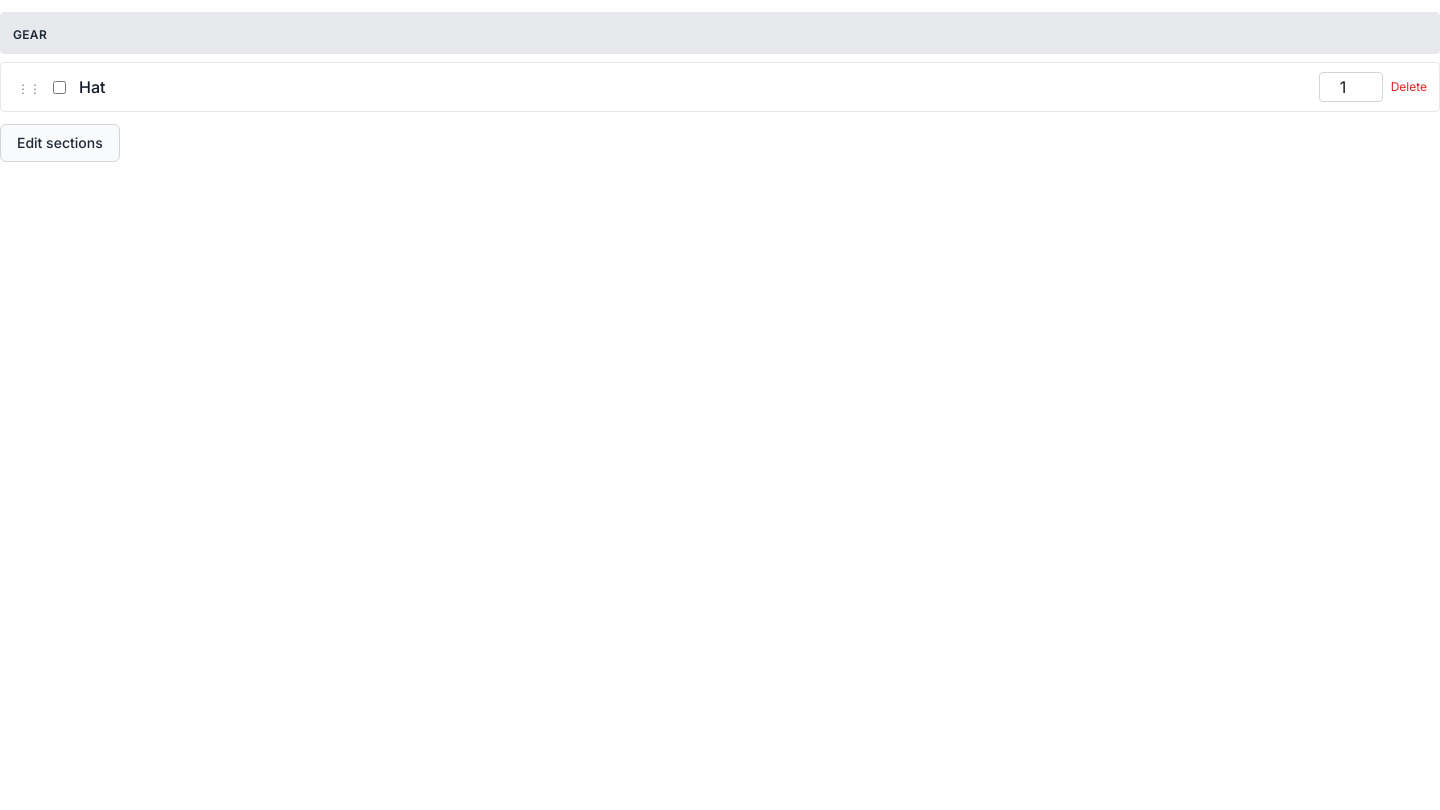
PersonalPackingDnDList › shows reorder failure inside the edit-sections dialog when Done returns not ok
This screenshot has width=1440, height=810.
Click the button "Edit sections" at {"x": 60, "y": 143}, box [0,124,120,162]
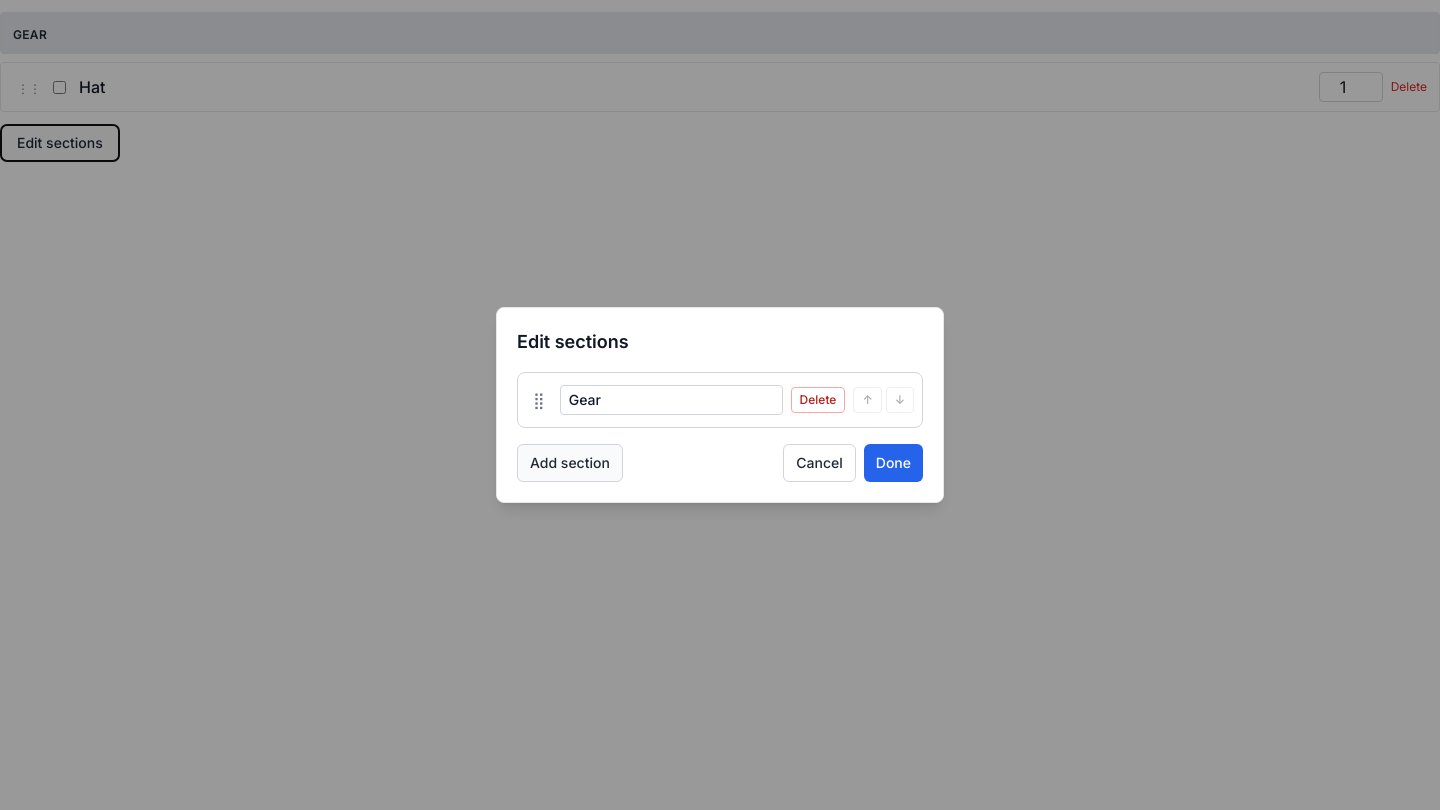
Click the button "Done" at {"x": 893, "y": 463}, box [864,444,923,482]
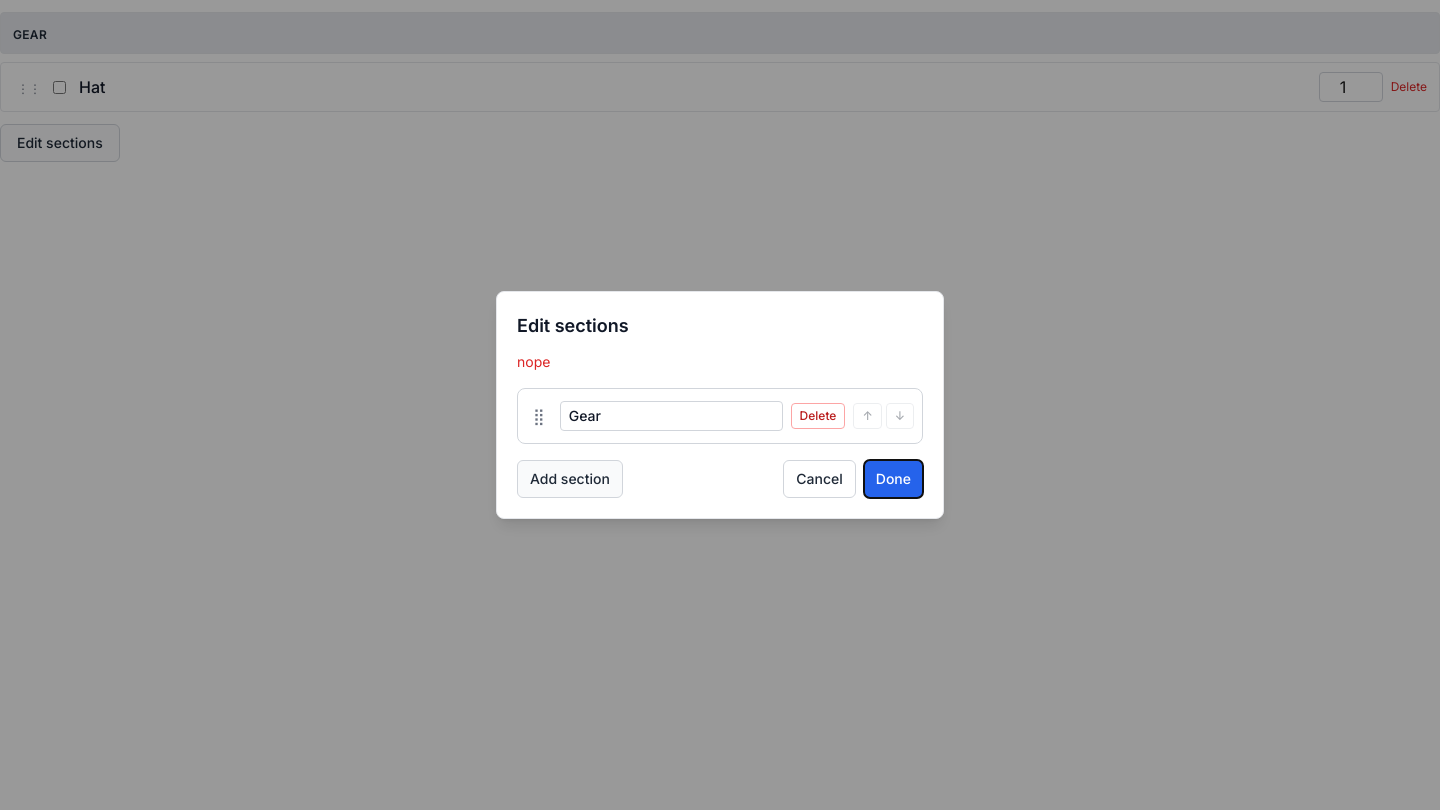
Result: the message reads "nope" at [517,353,550,370]
